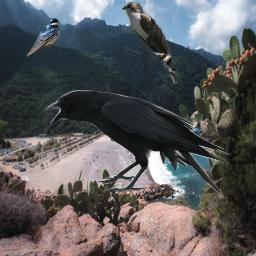Crow: (45, 90, 232, 194)
Cuckoo: (121, 2, 183, 84)
Swallow: (26, 17, 60, 58)
